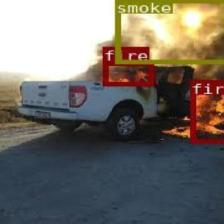fire: (188, 79, 224, 141), (102, 61, 152, 85)
smoke: (114, 0, 224, 63)
